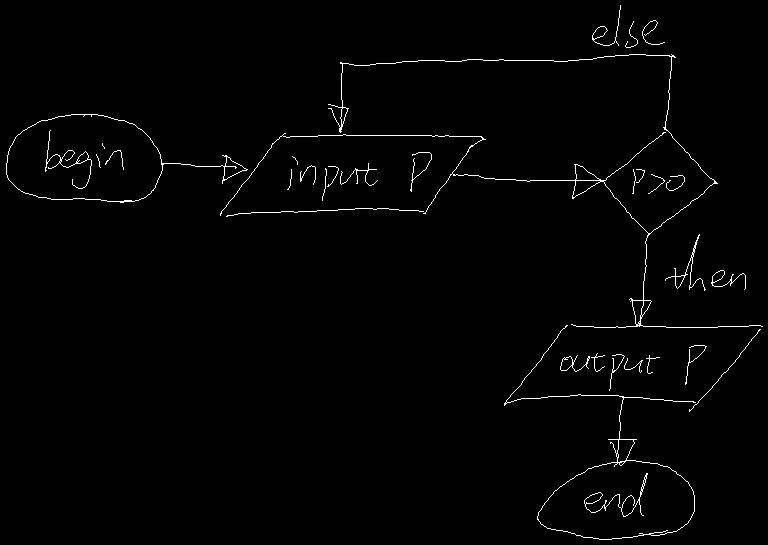arrow: (328, 54, 675, 132), (453, 164, 602, 198), (161, 155, 247, 183), (629, 233, 651, 326), (608, 397, 636, 465)
data: (504, 324, 762, 411), (220, 133, 485, 216)
decision: (600, 127, 717, 236)
terminator: (6, 114, 162, 202), (537, 460, 694, 539)
text: (287, 152, 431, 200), (560, 345, 706, 390), (45, 130, 123, 188), (665, 234, 745, 290), (592, 5, 664, 47), (584, 473, 647, 516), (632, 169, 684, 193)
